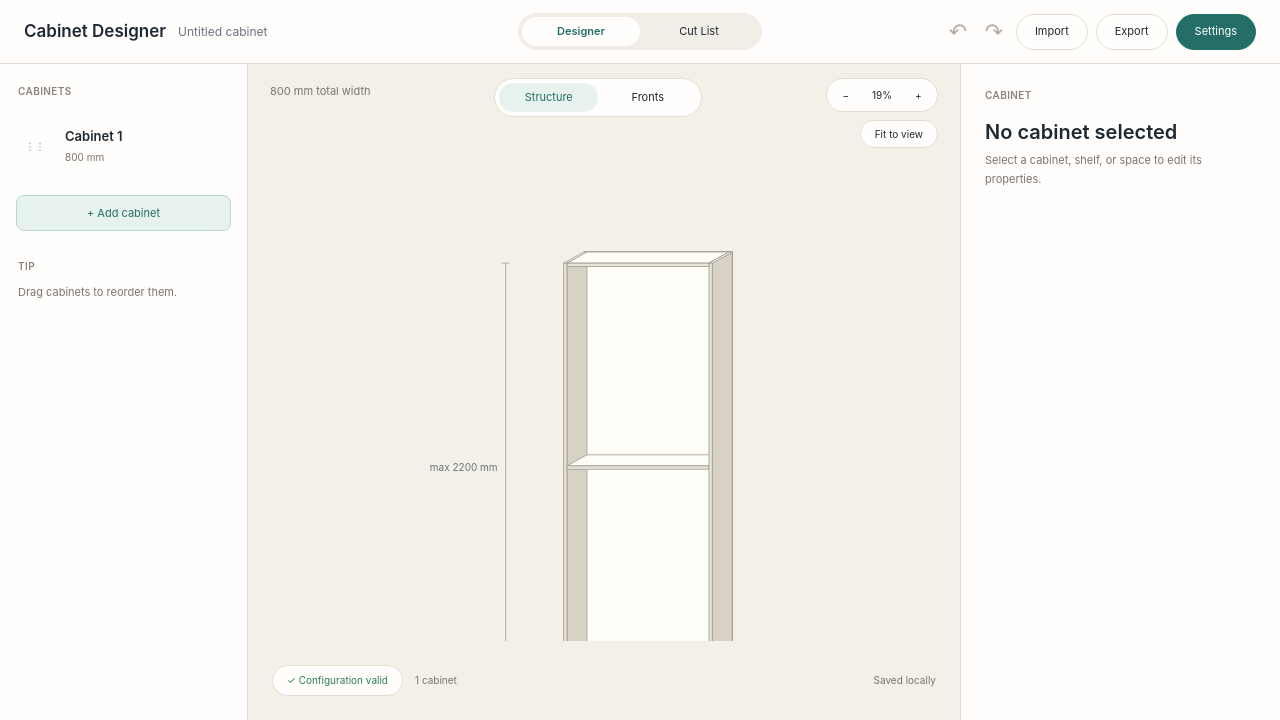
Test: application shell › shows global settings separately and enables file controls
The image size is (1280, 720).
Step 1. Click the button "Settings" → (1216, 32), box [1176,14,1256,50]
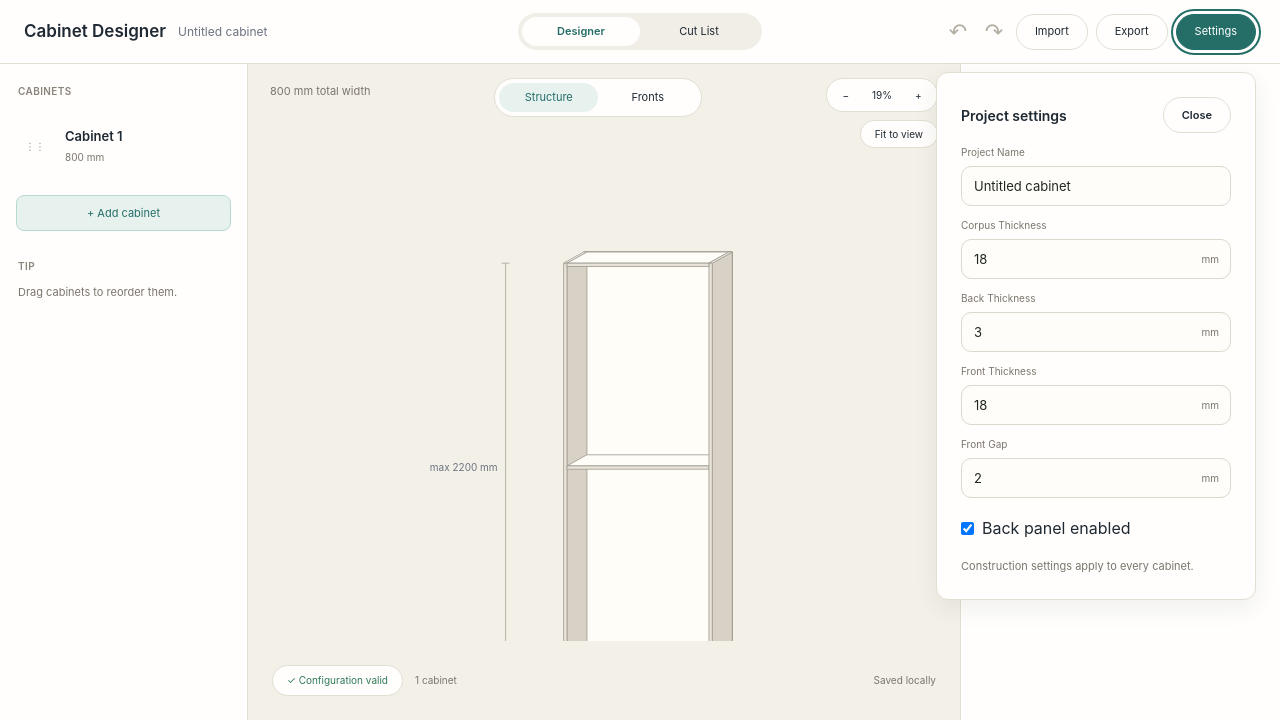
Result: the element "Project settings" is shown at [936,72,1256,600]
Result: the text "Corpus thickness" is shown at [961,219,1047,231]
Step 2. Click the button "Close" → (1197, 115), box [1163,97,1231,133]
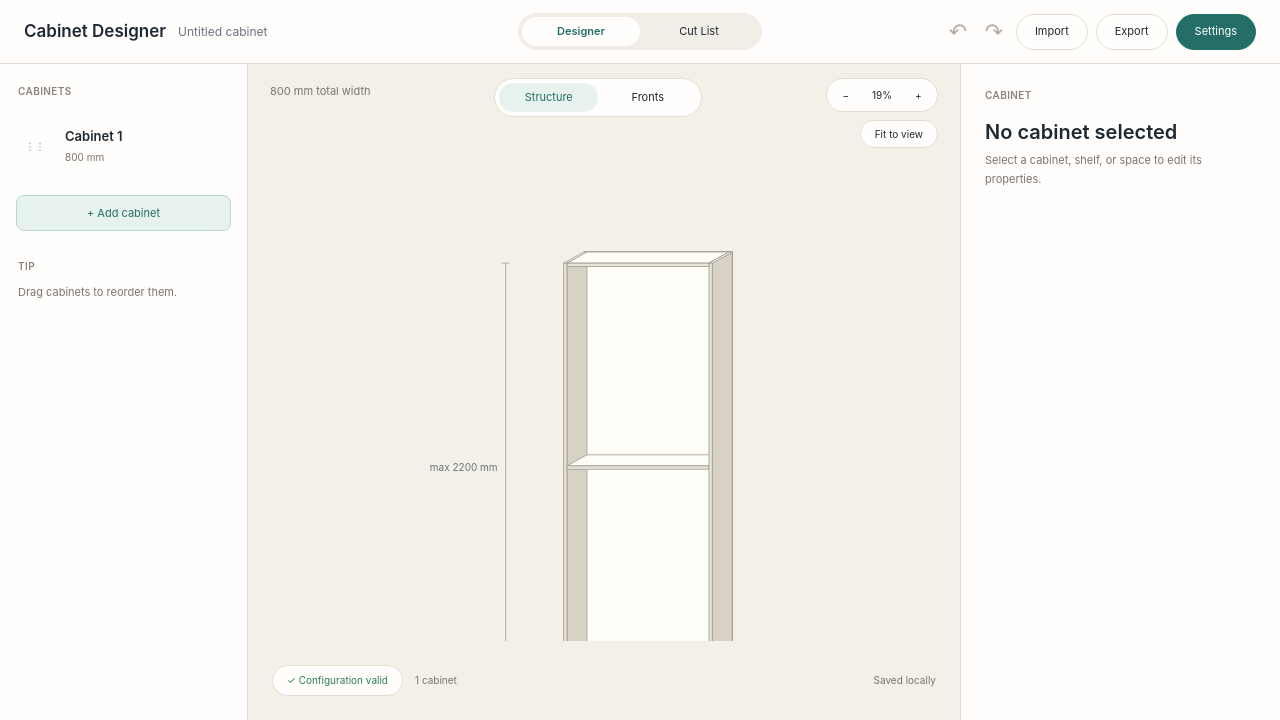
Expected: the button "Import" is enabled, [1016,14,1088,50]
Result: the heading "Project settings" is gone
